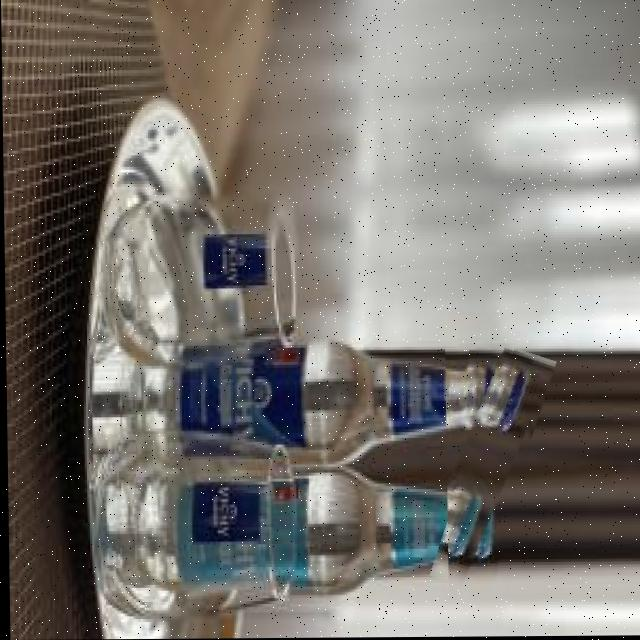plasticbottlecap: (443, 346, 538, 592)
